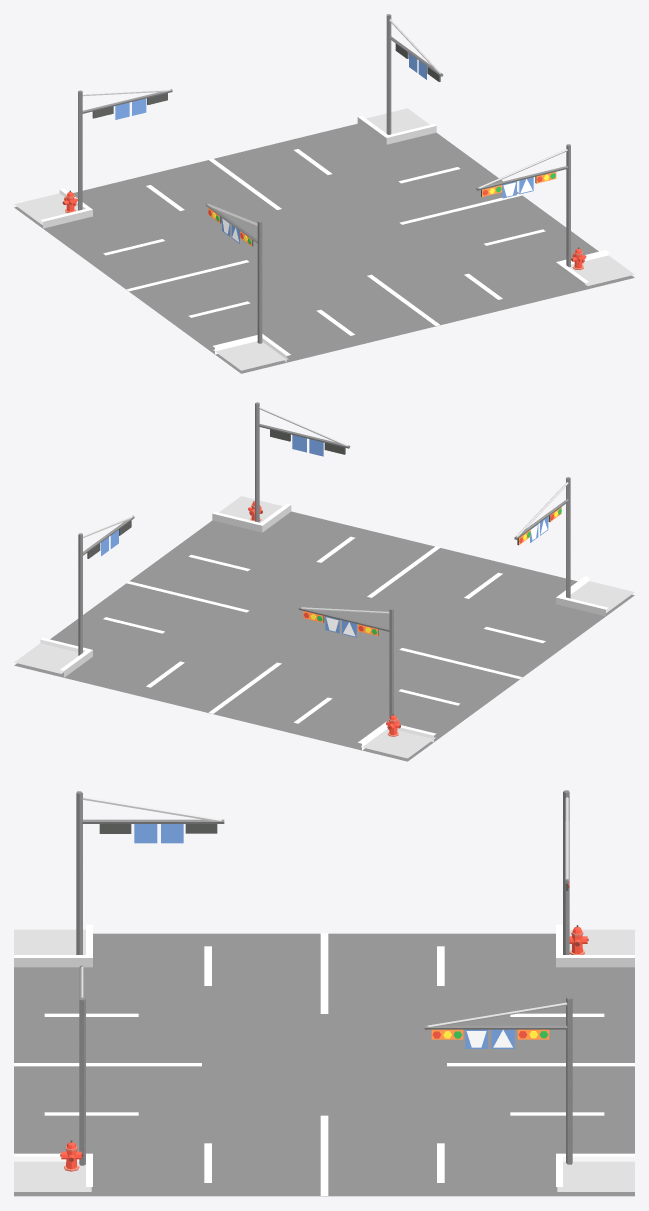
The model's file is road_tile_2x2_5.glb.
The picture shows the model from 3 angles, top to bottom: view 1: azimuth 30°, elevation 25°; view 2: azimuth 150°, elevation 25°; view 3: azimuth 270°, elevation 25°; orthographic projection. The views are drawn at different scales.
Parts seen in each view (by area): view 1: road_tile_2x2_5(Clone); view 2: road_tile_2x2_5(Clone); view 3: road_tile_2x2_5(Clone).
Part boxes in pixels (x1,y1,x2,y2): road_tile_2x2_5(Clone): [14, 14, 634, 373]; road_tile_2x2_5(Clone): [14, 402, 634, 761]; road_tile_2x2_5(Clone): [14, 790, 634, 1196].
Size of the model in its own units: 16 by 4.84 by 16.
Materials: 1 (1 with a texture image).
